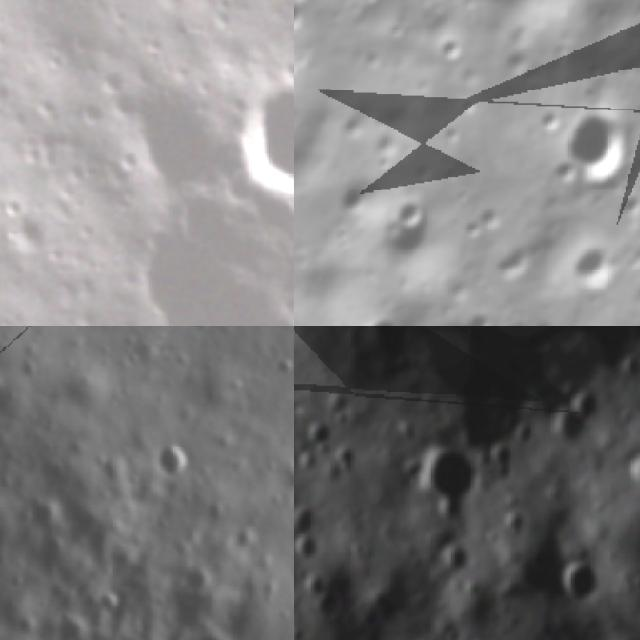crater: (99, 61, 236, 215), (203, 55, 294, 228), (544, 98, 640, 198), (412, 438, 492, 520), (560, 240, 627, 306), (549, 554, 606, 611), (427, 20, 476, 74), (386, 190, 437, 241), (550, 404, 592, 451), (156, 441, 196, 487), (311, 579, 348, 628), (346, 305, 420, 326), (486, 441, 523, 483), (180, 562, 220, 600), (294, 534, 332, 573), (294, 494, 321, 543), (440, 549, 482, 578), (294, 0, 317, 41), (356, 0, 419, 13)
